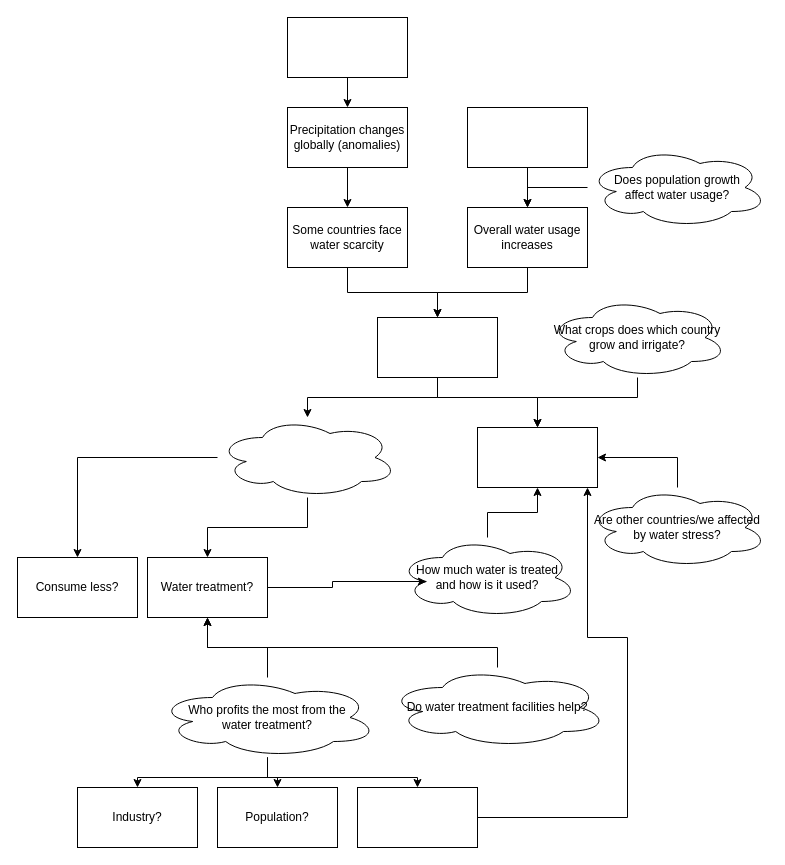
The diagram is 785 pixels wide and 865 high, and some of its shapes have lost their labels. The shapes that lost their labels are listed below. From the top down, each one's centre as x and y in pixels, then its label:
At (347,47): "Temperatures changes globally (anomalies)".
At (527,137): "Population increases".
At (437,347): "Water stress increases for some countries".
At (307,457): "What do they do as a countermeasure against water stress?".
At (537,457): "Crop irrigation".
At (417,817): "Agriculture?".
